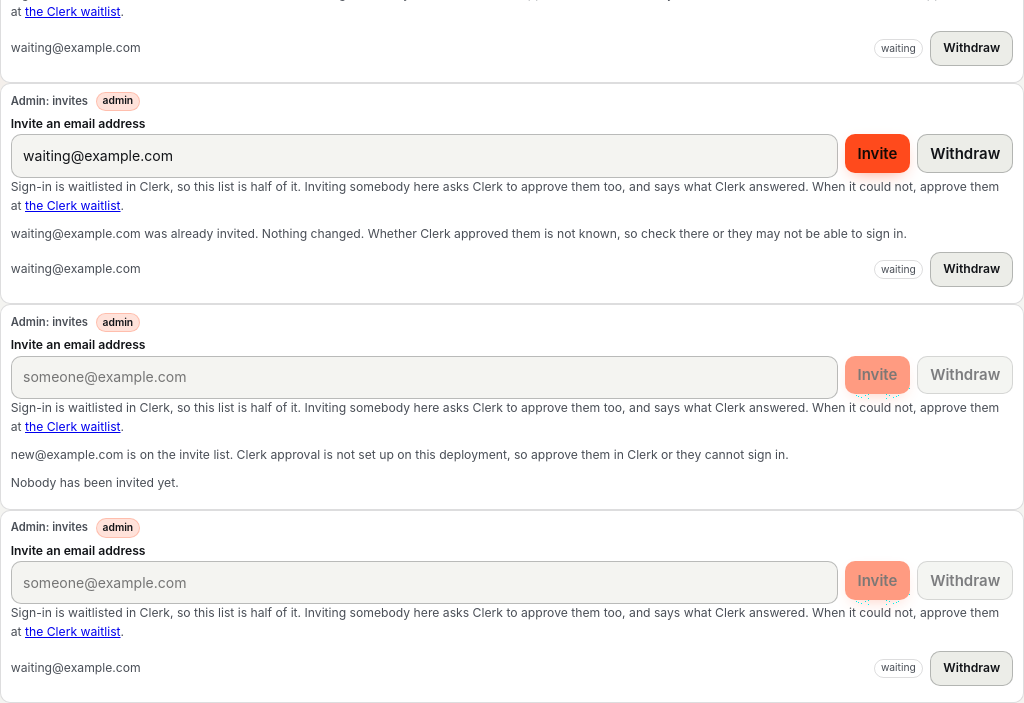
the invite panel › does not report a withdrawal that did not happen
(page scrolled)
Click the 7th button "Withdraw" at (972, 668), box [930,651,1013,686]
(page scrolled)
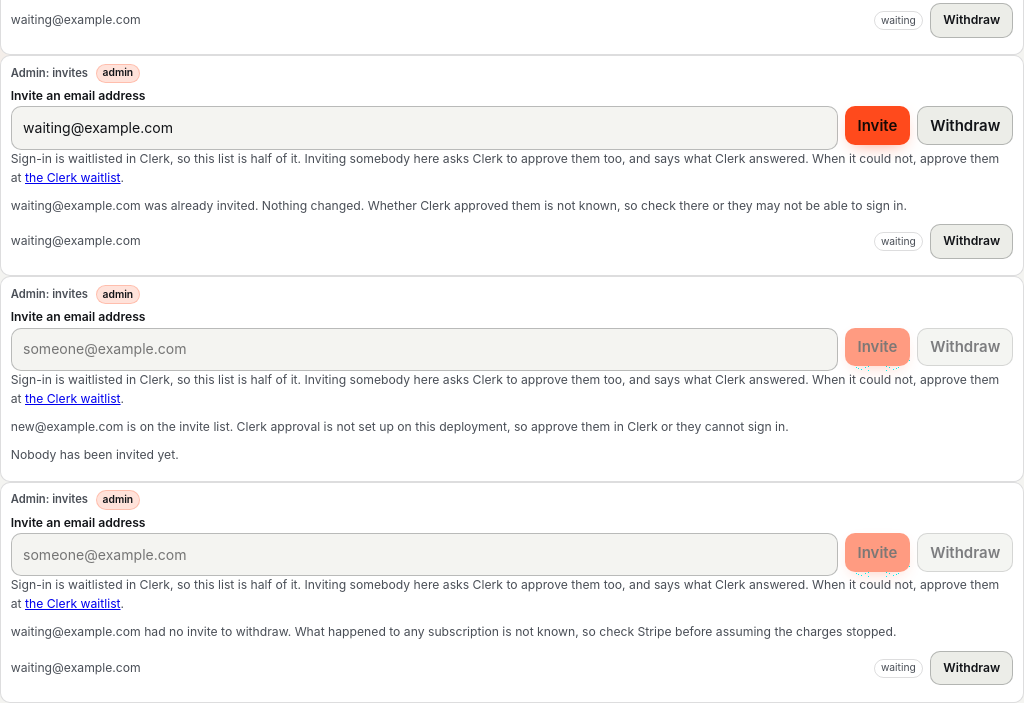
Expected: the element that starts with "Admin: invites" shows "had no invite to withdraw", [11,624,896,639]
